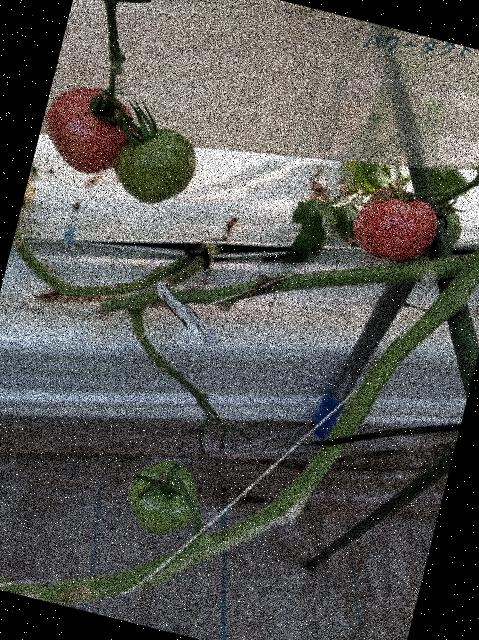b_fully_ripened: (33, 77, 146, 185), (346, 186, 444, 271)
b_green: (105, 117, 203, 213), (120, 455, 206, 544)
